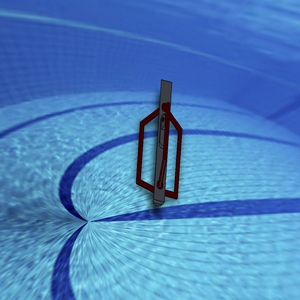submarine: (103, 48, 211, 212)
